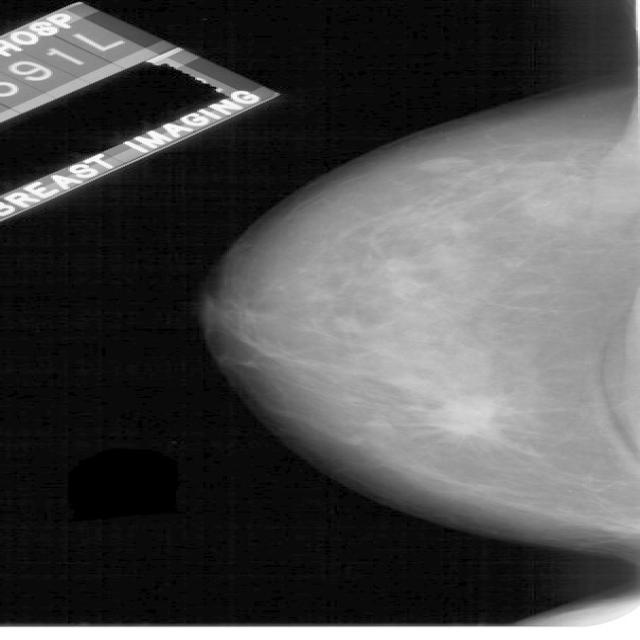tumour: (422, 393, 500, 439)
